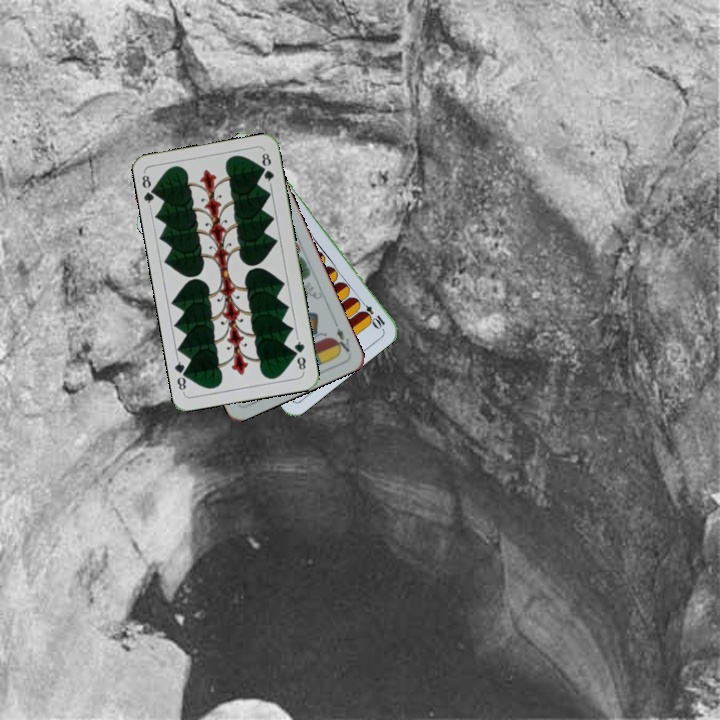E10: (355, 296, 388, 331)
EA: (329, 317, 353, 356)
G8: (138, 169, 160, 210), (290, 334, 309, 374)
